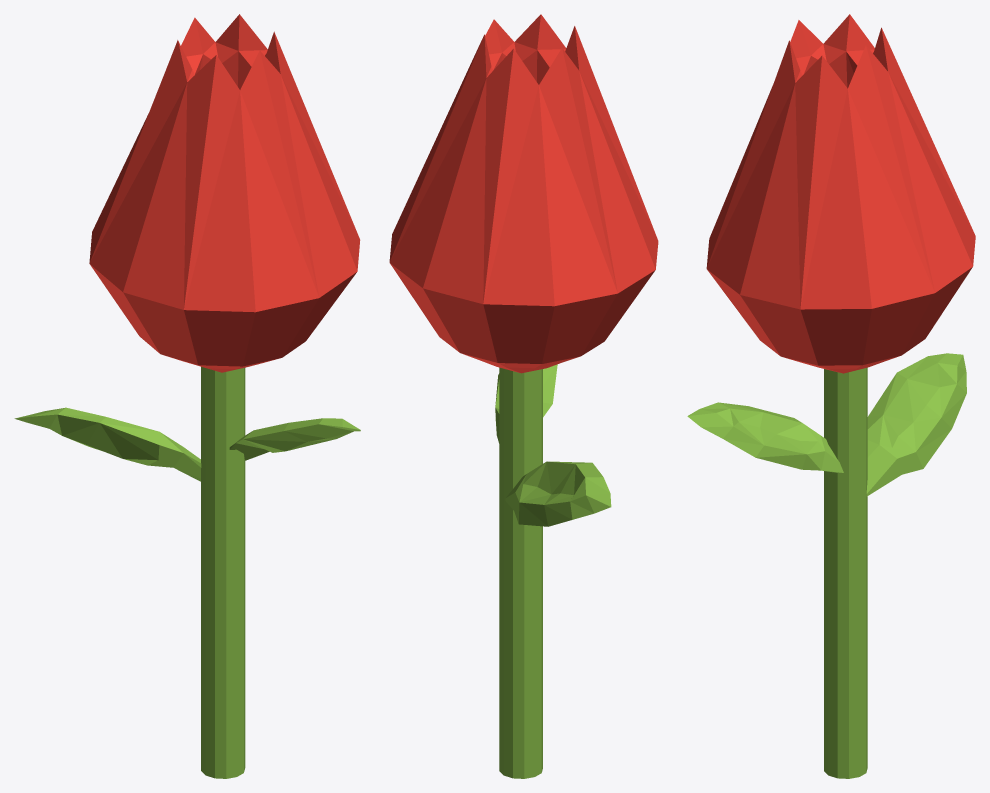
The picture shows the model from 3 angles, left to right: view 1: azimuth 30°, elevation 25°; view 2: azimuth 150°, elevation 25°; view 3: azimuth 270°, elevation 25°; orthographic projection.
Visible parts, largest first — view 1: default; view 2: default; view 3: default.
Boxes of the visible parts, x1,y1,x2,y2 form: default: [14, 14, 360, 778]; default: [389, 14, 658, 778]; default: [687, 14, 975, 778].
Bounding box in the file's own units: 0.0928 × 0.2467 × 0.0875.
